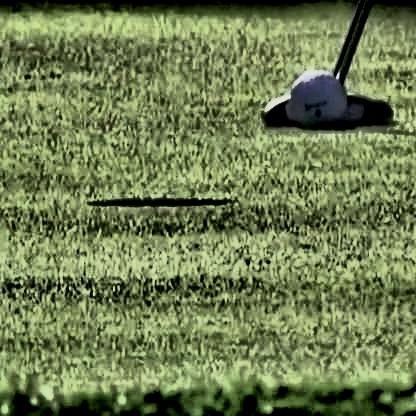golfball: (284, 65, 343, 128)
